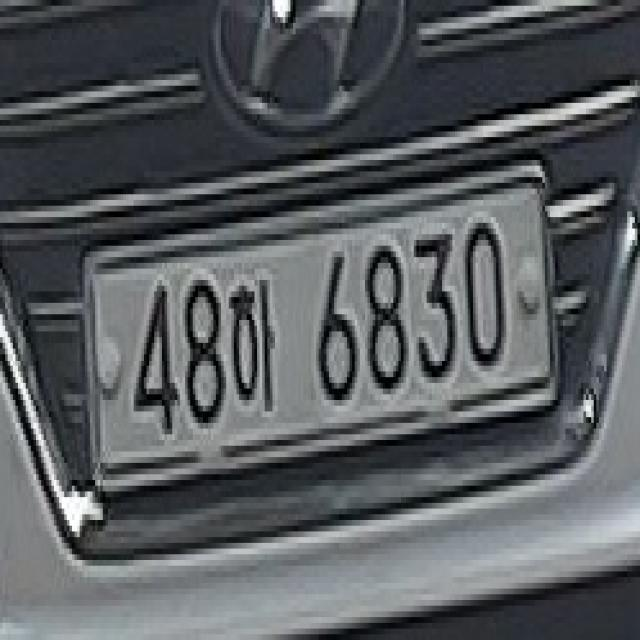0: (462, 215, 510, 382)
3: (414, 225, 459, 388)
4: (127, 276, 181, 452)
6: (310, 245, 362, 410)
8: (363, 233, 411, 410), (182, 269, 228, 435)
ha: (226, 268, 282, 421)
license_plate: (68, 139, 570, 521)
